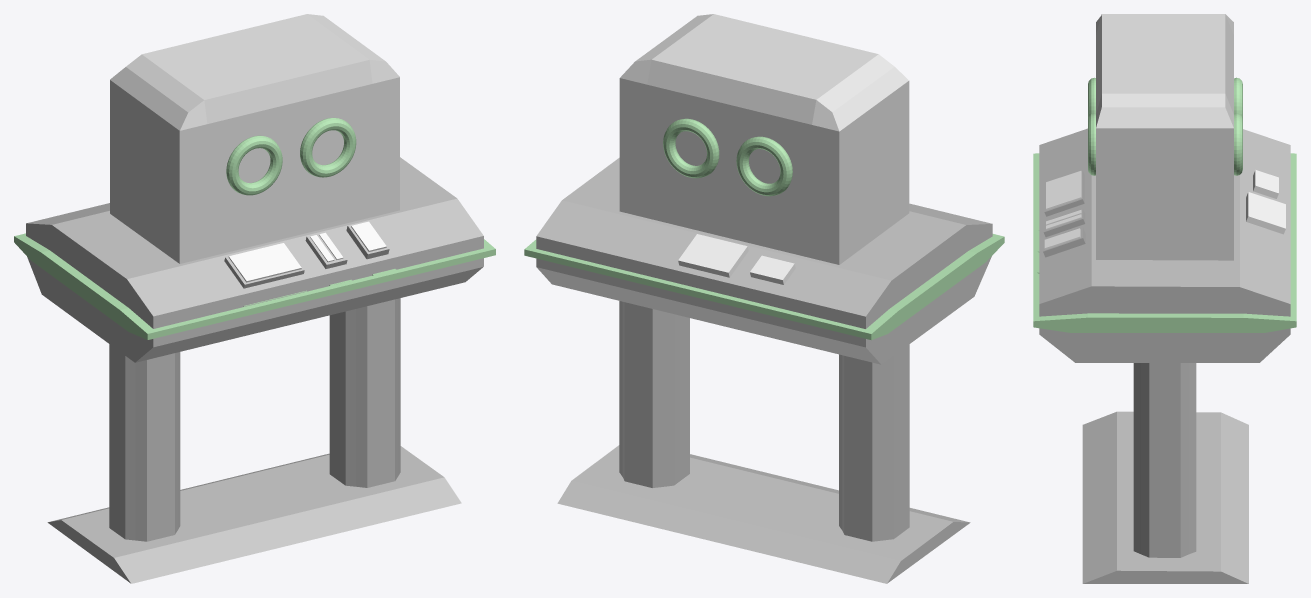
The model's file is Incubator.fbx.
The picture shows the model from 3 angles, left to right: view 1: azimuth 30°, elevation 25°; view 2: azimuth 150°, elevation 25°; view 3: azimuth 270°, elevation 25°; orthographic projection.
Visible parts, largest first — view 1: Incubator, Box, Stand, Pillar.001, Pillar, Box.001, Incubator_Entrance3, Incubator_Entrance2, Button.002; view 2: Incubator, Box, Stand, Pillar.001, Pillar, Box.001, Button, Incubator_Entrance1, Incubator_Entrance, Button.001; view 3: Incubator, Box, Stand, Pillar, Box.001, Button, Button.002, Button.001, Incubator_Entrance1, Incubator_Entrance3, Button.005.
Boxes of the visible parts, x1=… form: Incubator: x1=110, y1=14, x2=399, y2=263; Box: x1=26, y1=157, x2=483, y2=362; Stand: x1=47, y1=446, x2=461, y2=583; Pillar.001: x1=109, y1=344, x2=180, y2=541; Pillar: x1=329, y1=298, x2=400, y2=487; Box.001: x1=14, y1=233, x2=495, y2=339; Incubator_Entrance3: x1=300, y1=117, x2=356, y2=177; Incubator_Entrance2: x1=226, y1=135, x2=282, y2=195; Button.002: x1=228, y1=243, x2=301, y2=282; Incubator: x1=619, y1=14, x2=909, y2=264; Box: x1=536, y1=157, x2=992, y2=364; Stand: x1=557, y1=445, x2=970, y2=583; Pillar.001: x1=839, y1=344, x2=909, y2=541; Pillar: x1=619, y1=301, x2=689, y2=487; Box.001: x1=524, y1=234, x2=1004, y2=340; Button: x1=678, y1=234, x2=748, y2=277; Incubator_Entrance1: x1=663, y1=118, x2=719, y2=178; Incubator_Entrance: x1=736, y1=136, x2=792, y2=196; Button.001: x1=750, y1=255, x2=795, y2=284; Incubator: x1=1096, y1=14, x2=1233, y2=260; Box: x1=1039, y1=128, x2=1290, y2=362; Stand: x1=1082, y1=411, x2=1248, y2=583; Pillar: x1=1133, y1=363, x2=1196, y2=557; Box.001: x1=1033, y1=153, x2=1296, y2=332; Button: x1=1246, y1=192, x2=1285, y2=234; Button.002: x1=1046, y1=171, x2=1081, y2=210; Button.001: x1=1253, y1=170, x2=1278, y2=198; Incubator_Entrance1: x1=1234, y1=113, x2=1242, y2=175; Incubator_Entrance3: x1=1088, y1=113, x2=1095, y2=175; Button.005: x1=1044, y1=228, x2=1080, y2=249.
Size of the model in its own units: 316 by 402 by 210.
